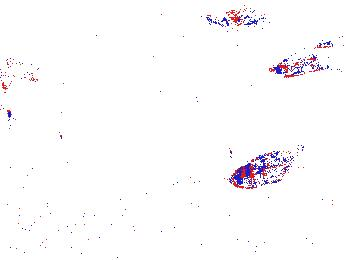X-ray fish: (229, 152, 298, 189), (126, 111, 163, 147)
red belly glassfish: (168, 13, 194, 40), (228, 9, 271, 25), (203, 13, 243, 29)
redtail glassfish: (269, 40, 346, 78)
